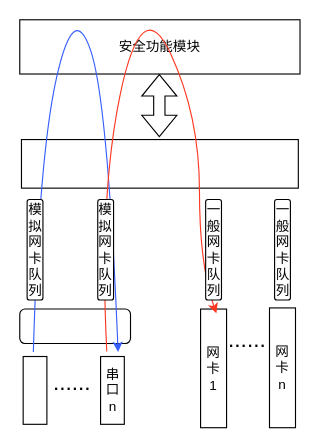
The diagram is 320 pixels wide and 447 high, and some of its shapes have lost their labels. Here are the shapes that lost their labels. From the top down, the centre of each, then its label:
At point (159, 163): "以太网数据收发模块".
At point (75, 326): "MODBUS_RTU串行数据转换模块".
At point (34, 389): "串口 1".
